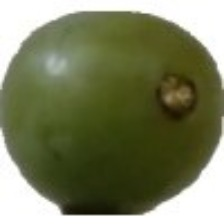grapes: (35, 16, 207, 204)
